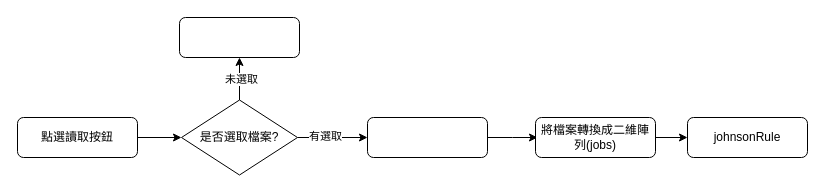
This 825x193 diagram has some shape labels left out. Here are the shapes that lost their labels. From the top down, the centre of each, then its label:
(x=239, y=37): 提示：未選取檔案
(x=427, y=137): 顯示檔案內的表格內容
